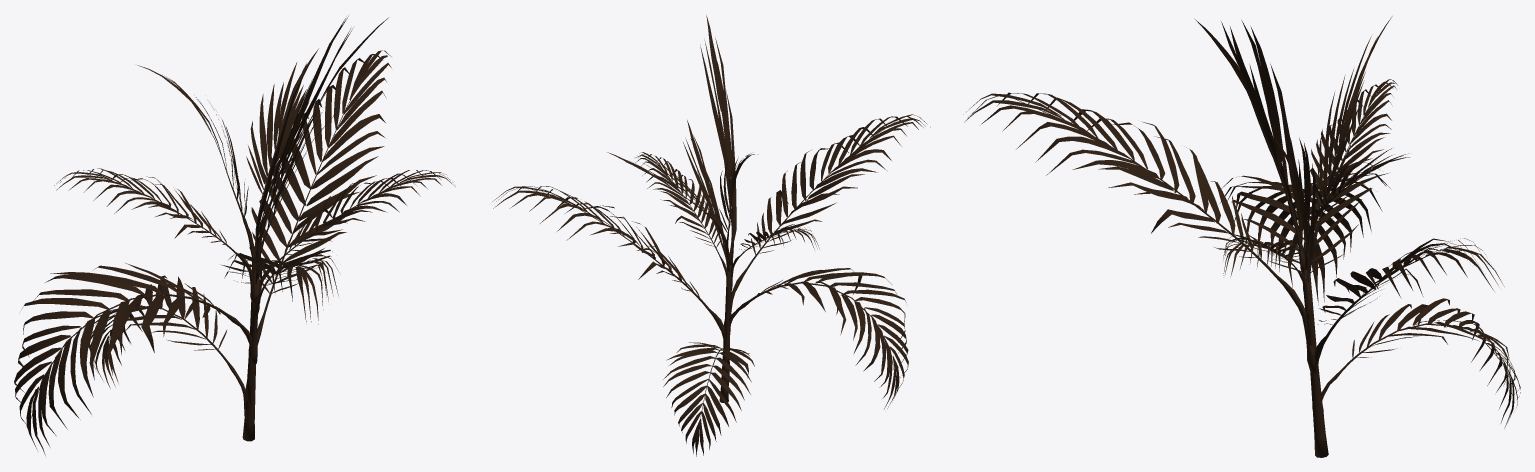
File: palnt3.fbx
3 views of the same model, side by side, from view 1: azimuth 30°, elevation 25°; view 2: azimuth 150°, elevation 25°; view 3: azimuth 270°, elevation 25° (orthographic). The views are drawn at different scales.
Parts seen in each view (by area): view 1: palnt3; view 2: palnt3; view 3: palnt3.
Boxes of the visible parts, <box> form: palnt3: <box>14,16,455,455</box>; palnt3: <box>492,15,930,456</box>; palnt3: <box>963,16,1520,457</box>.
Bounding box in the file's own units: 3.42 × 3.23 × 3.41.
